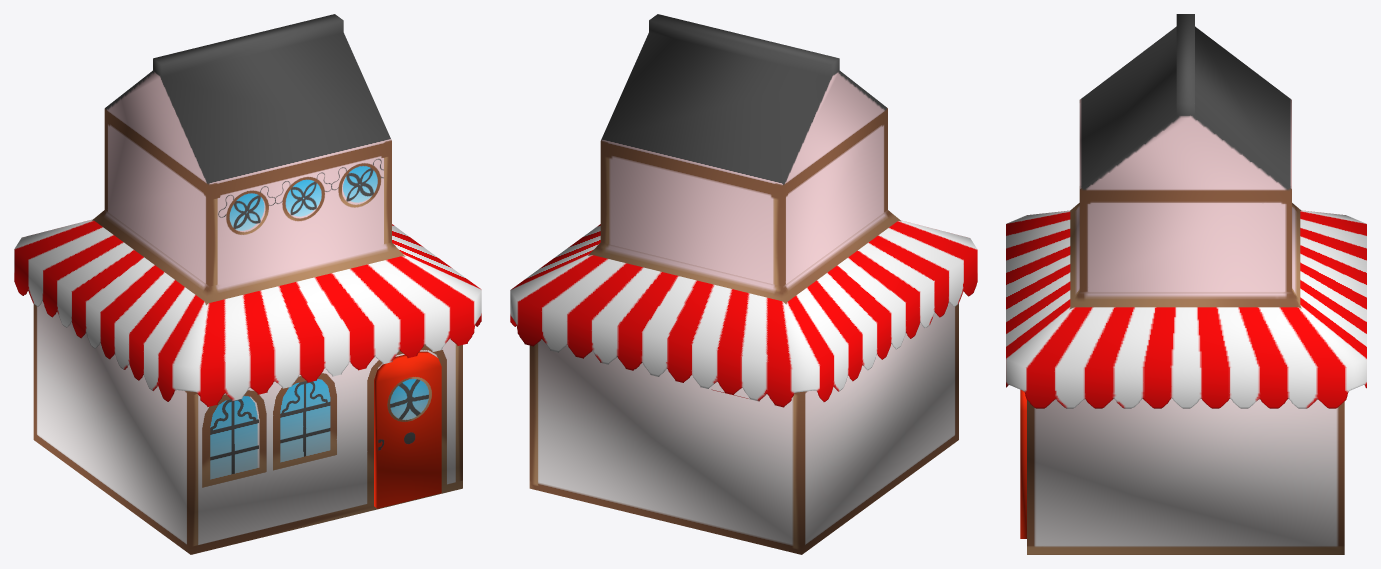
The model's file is house5.glb.
3 renders of one model, left to right at view 1: azimuth 30°, elevation 25°; view 2: azimuth 150°, elevation 25°; view 3: azimuth 270°, elevation 25°, orthographic.
Parts seen in each view (by area): view 1: house5, parasolmaison.001, hou5door.001; view 2: house5, parasolmaison.001; view 3: house5, parasolmaison.001, hou5door.001.
Part boxes in pixels (x1=…): house5: x1=33, y1=14, x2=462, y2=554; parasolmaison.001: x1=14, y1=219, x2=481, y2=406; hou5door.001: x1=374, y1=351, x2=441, y2=508; house5: x1=529, y1=14, x2=958, y2=554; parasolmaison.001: x1=510, y1=220, x2=977, y2=407; house5: x1=1027, y1=14, x2=1344, y2=554; parasolmaison.001: x1=1006, y1=210, x2=1366, y2=408; hou5door.001: x1=1020, y1=389, x2=1026, y2=538.
Bounding box in the file's own units: 3.53 × 4.63 × 3.53.
1 material, 1 textured.
